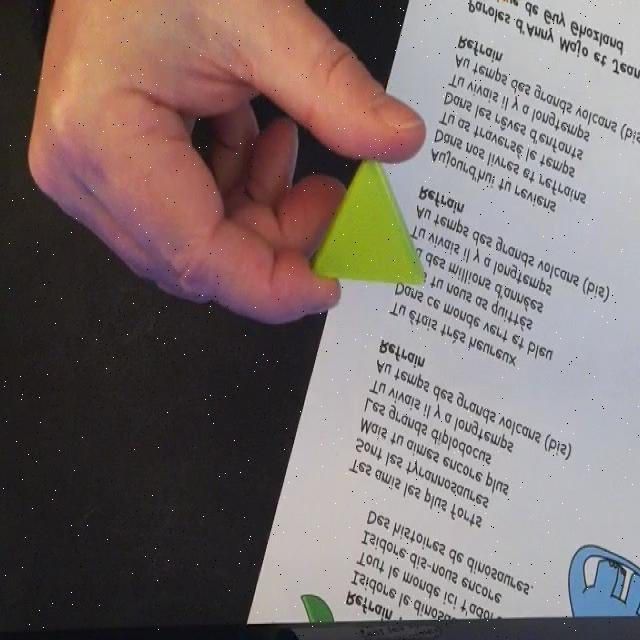triangle: (311, 146, 427, 288)
